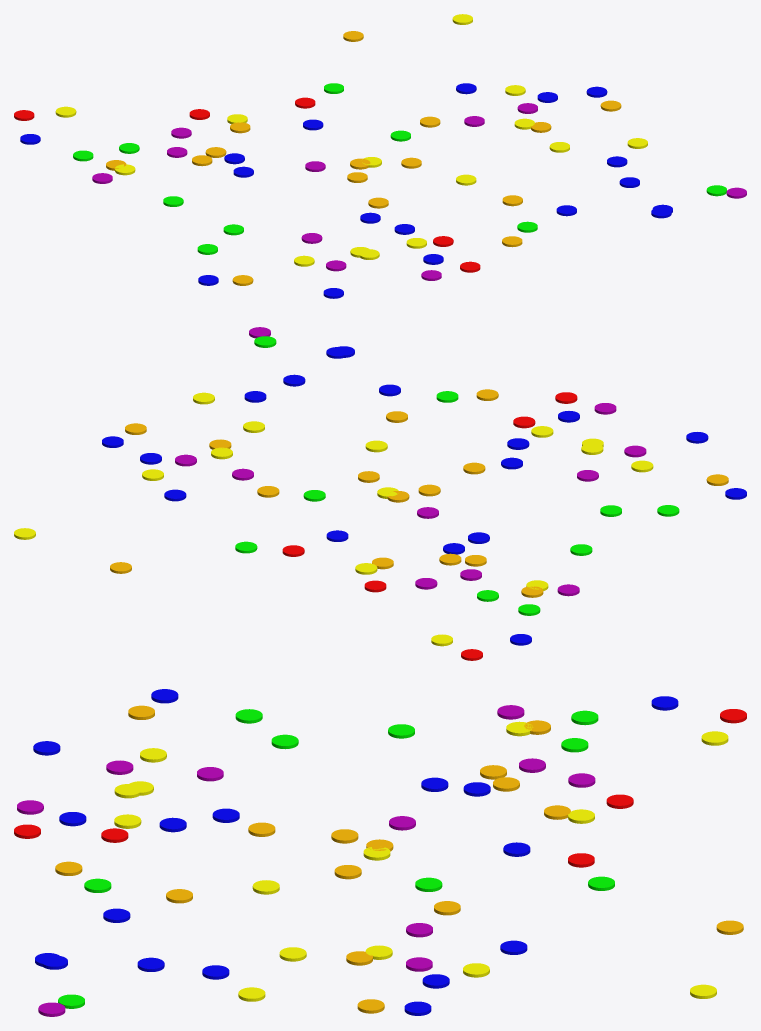
Rendered from rainbow_square3.glb.
3 views of the same model, one above another, from view 1: azimuth 30°, elevation 25°; view 2: azimuth 150°, elevation 25°; view 3: azimuth 270°, elevation 25° (orthographic). The views are drawn at different scales.
Size of the model in its own units: 2.28 by 0.01 by 2.17.
